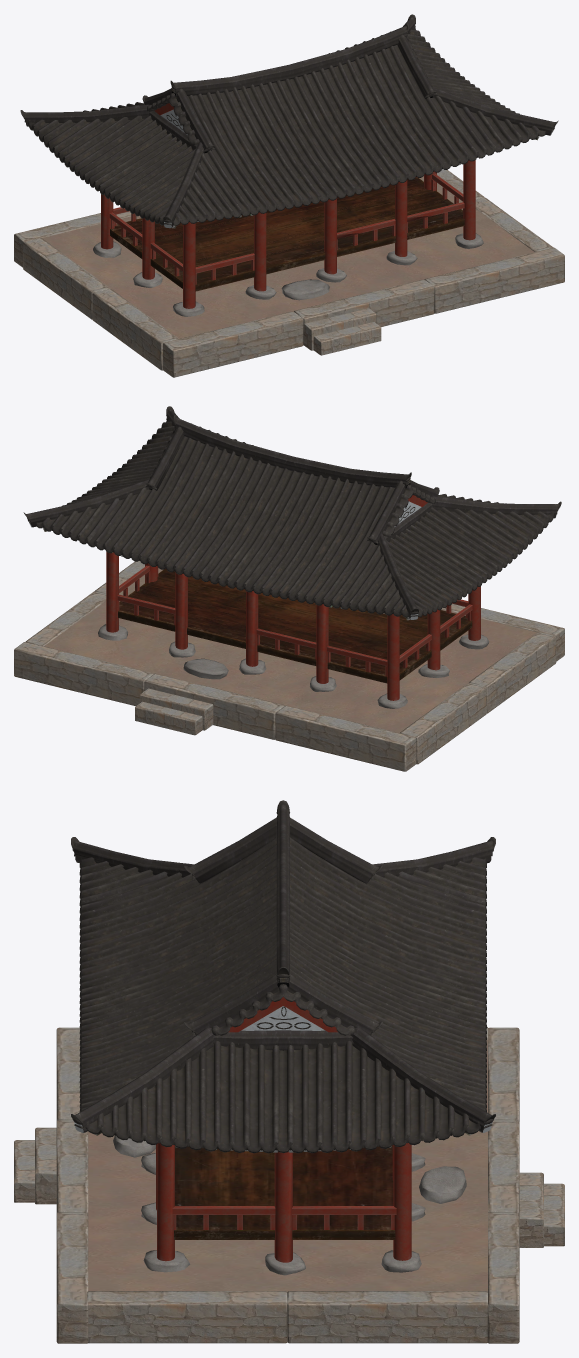
File: pavilion.glb
3 views of the same model, one above another, from view 1: azimuth 30°, elevation 25°; view 2: azimuth 150°, elevation 25°; view 3: azimuth 270°, elevation 25° (orthographic). The views are drawn at different scales.
Visible parts, largest first — view 1: Poongyoung_Roof_Poongyoung_Roof_0, Poongyoung_extra_Poongyoung_extra_0, Poongyoung_woods_Poongyoung_woods_0; view 2: Poongyoung_Roof_Poongyoung_Roof_0, Poongyoung_extra_Poongyoung_extra_0, Poongyoung_woods_Poongyoung_woods_0; view 3: Poongyoung_Roof_Poongyoung_Roof_0, Poongyoung_extra_Poongyoung_extra_0, Poongyoung_woods_Poongyoung_woods_0.
Boxes of the visible parts, bbox=[...] form: Poongyoung_Roof_Poongyoung_Roof_0: bbox=[14, 14, 564, 377]; Poongyoung_extra_Poongyoung_extra_0: bbox=[42, 176, 534, 338]; Poongyoung_woods_Poongyoung_woods_0: bbox=[101, 103, 539, 308]; Poongyoung_Roof_Poongyoung_Roof_0: bbox=[14, 406, 564, 771]; Poongyoung_extra_Poongyoung_extra_0: bbox=[44, 568, 536, 732]; Poongyoung_woods_Poongyoung_woods_0: bbox=[42, 495, 480, 700]; Poongyoung_Roof_Poongyoung_Roof_0: bbox=[14, 800, 564, 1343]; Poongyoung_extra_Poongyoung_extra_0: bbox=[88, 1040, 488, 1291]; Poongyoung_woods_Poongyoung_woods_0: bbox=[92, 997, 476, 1262].
Size of the model in its own units: 13.46 by 7.21 by 11.22.
3 materials, 3 textured.
